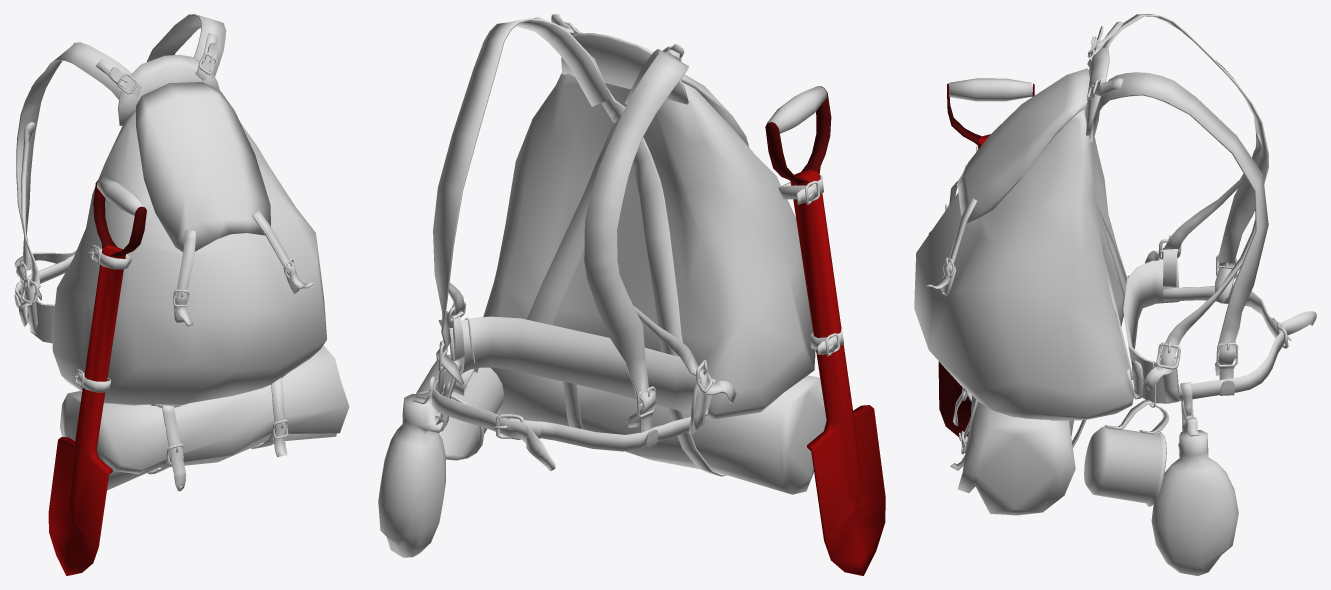
The model's file is backpack_low_sp.fbx.
3 renders of one model, left to right at view 1: azimuth 30°, elevation 25°; view 2: azimuth 150°, elevation 25°; view 3: azimuth 270°, elevation 25°, orthographic. The views are drawn at different scales.
Parts seen in each view (by area): view 1: backpack_main_Low, backpack_main_2_Low, blanket_Low, shovel_Low, leather strap_9_Low.001, leather_part1_Low, leather strap_10_Low, leather strap_Low, leather strap_7_Low.002, leather strap_8_Low, handle_Low, leather strap_2_Low (+3 smaller); view 2: backpack_main_Low, leather strap_9_Low.001, shovel_Low, blanket_Low, belt_2_Low, Flask_Low, leather strap_12a_Low, leather strap_12_Low, cup_Low.001, leather_part1_Low, belt3a_Low, belt3_Low (+6 smaller); view 3: backpack_main_Low, leather strap_9_Low.001, blanket_Low, Flask_Low, backpack_main_2_Low, cup_Low.001, belt_2_Low, belt3_Low, shovel_Low, leather strap_10_Low.001, handle_Low, leather strap_10_Low (+7 smaller).
Part boxes in pixels (bbox=[...]): backpack_main_Low: bbox=[52, 89, 326, 406]; backpack_main_2_Low: bbox=[136, 82, 270, 251]; blanket_Low: bbox=[60, 345, 349, 490]; shovel_Low: bbox=[48, 178, 146, 575]; leather strap_9_Low.001: bbox=[16, 14, 226, 300]; leather_part1_Low: bbox=[118, 54, 219, 125]; leather strap_10_Low: bbox=[19, 122, 40, 326]; leather strap_Low: bbox=[175, 230, 195, 326]; leather strap_7_Low.002: bbox=[162, 405, 186, 491]; leather strap_8_Low: bbox=[251, 377, 287, 457]; handle_Low: bbox=[97, 177, 145, 215]; leather strap_2_Low: bbox=[252, 210, 313, 288]; backpack_main_Low: bbox=[483, 73, 815, 418]; leather strap_9_Low.001: bbox=[433, 18, 688, 427]; shovel_Low: bbox=[765, 86, 885, 575]; blanket_Low: bbox=[491, 367, 826, 494]; belt_2_Low: bbox=[449, 316, 707, 434]; Flask_Low: bbox=[378, 393, 445, 557]; leather strap_12a_Low: bbox=[551, 14, 682, 356]; leather strap_12_Low: bbox=[527, 44, 684, 324]; cup_Low.001: bbox=[402, 354, 503, 460]; leather_part1_Low: bbox=[561, 33, 688, 104]; belt3a_Low: bbox=[507, 416, 691, 451]; belt3_Low: bbox=[431, 357, 555, 470]; backpack_main_Low: bbox=[914, 108, 1134, 420]; leather strap_9_Low.001: bbox=[1090, 14, 1268, 376]; blanket_Low: bbox=[958, 396, 1075, 515]; Flask_Low: bbox=[1151, 430, 1238, 575]; backpack_main_2_Low: bbox=[956, 68, 1089, 224]; cup_Low.001: bbox=[1084, 426, 1166, 506]; belt_2_Low: bbox=[1123, 259, 1179, 403]; belt3_Low: bbox=[1178, 311, 1316, 400]; shovel_Low: bbox=[938, 83, 1034, 437]; leather strap_10_Low.001: bbox=[1143, 220, 1255, 390]; handle_Low: bbox=[949, 78, 1031, 101]; leather strap_10_Low: bbox=[1145, 133, 1261, 263].
Size of the model in its own units: 49.06 by 71.08 by 53.17.
